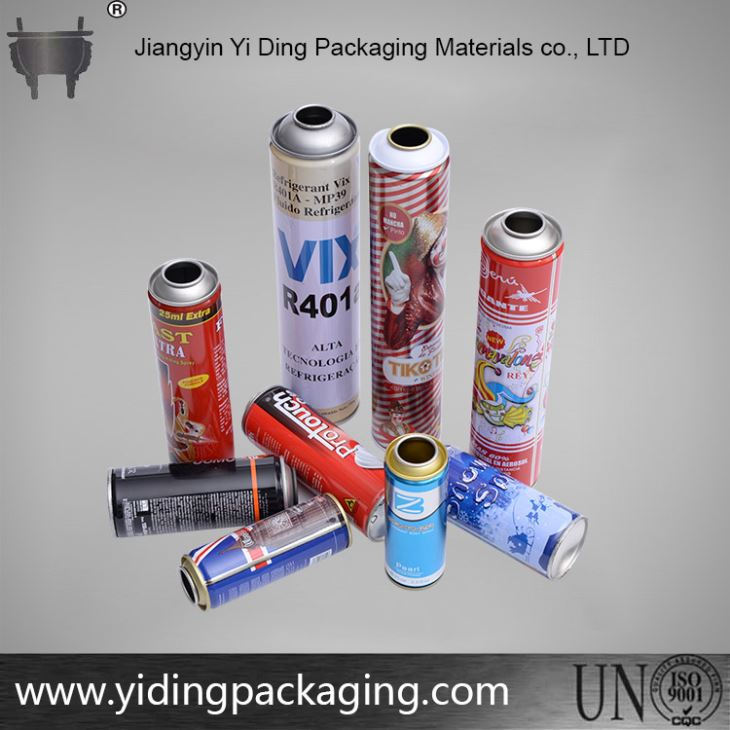Aerosol_cans: (267, 101, 366, 427), (468, 203, 571, 490), (365, 122, 449, 454), (237, 380, 398, 547), (435, 435, 596, 587), (178, 489, 357, 620), (147, 255, 242, 464), (102, 450, 302, 541), (379, 430, 453, 595)
